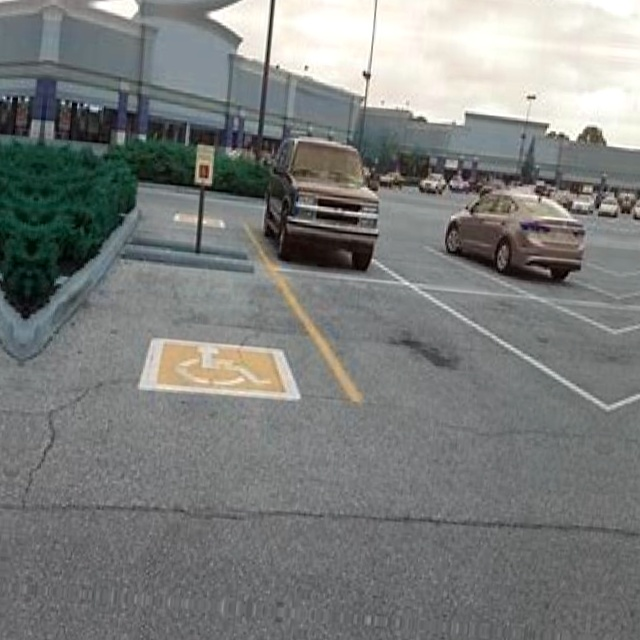ISA: (170, 342, 274, 392), (199, 164, 211, 179)
